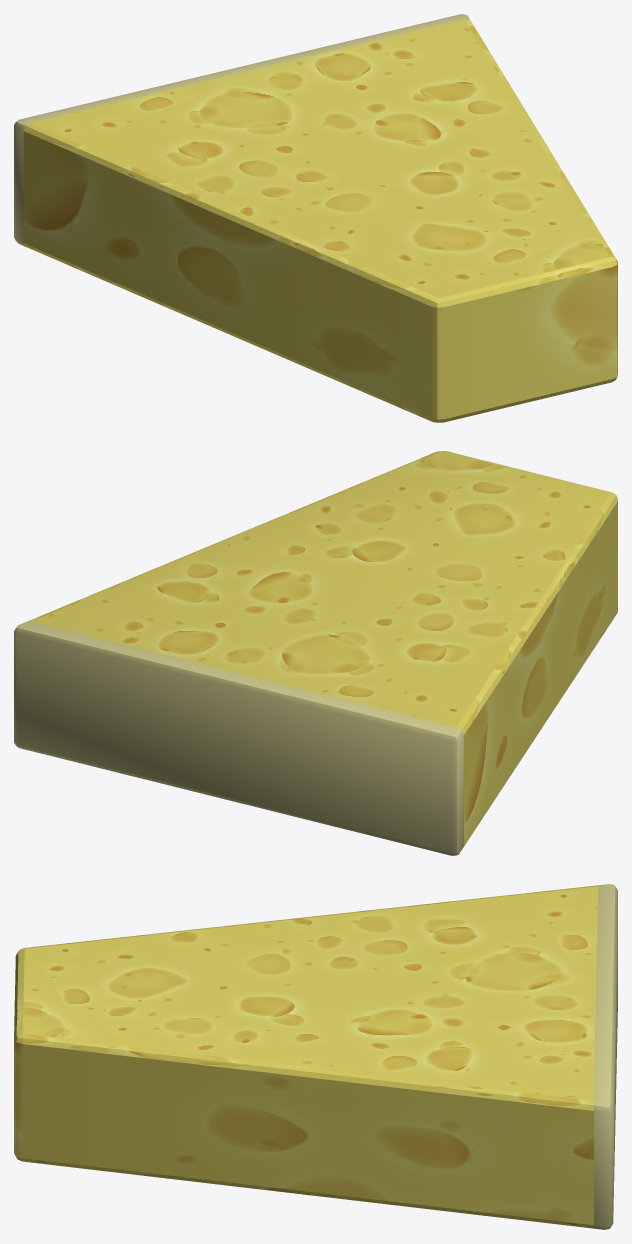
File: cheese.fbx
3 renders of one model, top to bottom at view 1: azimuth 30°, elevation 25°; view 2: azimuth 150°, elevation 25°; view 3: azimuth 270°, elevation 25°, orthographic. The views are drawn at different scales.
Visible parts, largest first — view 1: cheese_msh; view 2: cheese_msh; view 3: cheese_msh.
Boxes of the visible parts, x1,y1,x2,y2 form: cheese_msh: (14,14,617,422); cheese_msh: (14,451,617,855); cheese_msh: (14,884,617,1229).
Bounding box in the file's own units: 1.3 × 0.3431 × 1.48.
